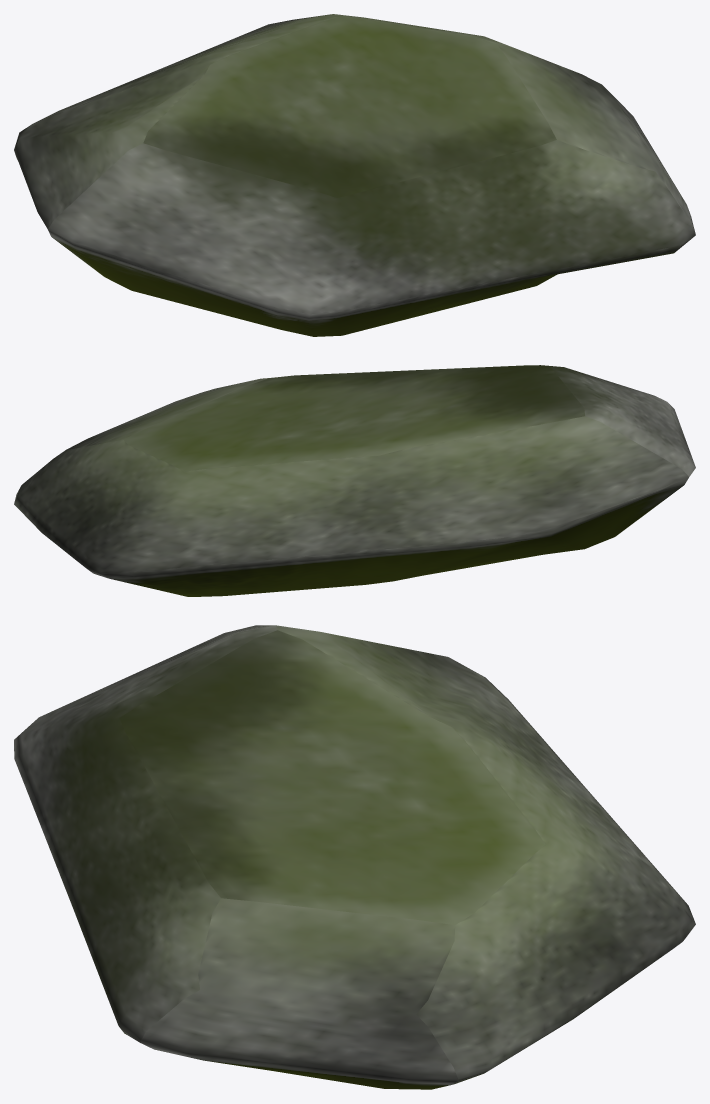
Rendered from rock12_unity.fbx.
3 renders of one model, top to bottom at view 1: azimuth 30°, elevation 25°; view 2: azimuth 150°, elevation 25°; view 3: azimuth 270°, elevation 25°, orthographic. The views are drawn at different scales.
Parts seen in each view (by area): view 1: Object015; view 2: Object015; view 3: Object015.
Boxes of the visible parts, x1,y1,x2,y2 form: Object015: (14, 14, 695, 336); Object015: (14, 365, 695, 596); Object015: (14, 625, 695, 1089).
Size of the model in its own units: 27.39 by 23.48 by 8.15.
1 material, 1 textured.
